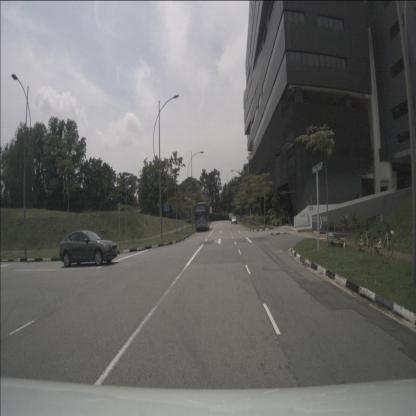vehicle-bicycle: (370, 219, 393, 259), (355, 224, 373, 254)
vehicle-bus-rigid: (194, 202, 210, 231)
vehicle-car: (59, 230, 118, 268), (228, 212, 234, 222), (232, 216, 237, 224), (230, 214, 233, 221)
